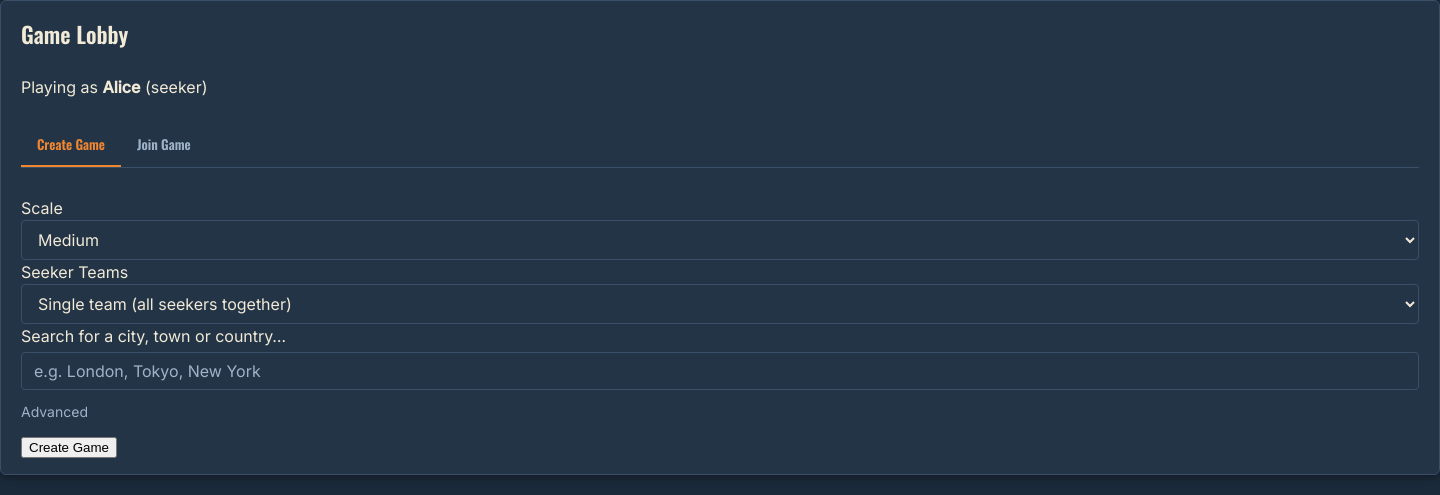
Test: GameForm › shows error when joining with empty game ID
The width and height of the screenshot is (1440, 495).
Click the tab "Join Game" at point(164, 145), box 121,123 -> 207,167
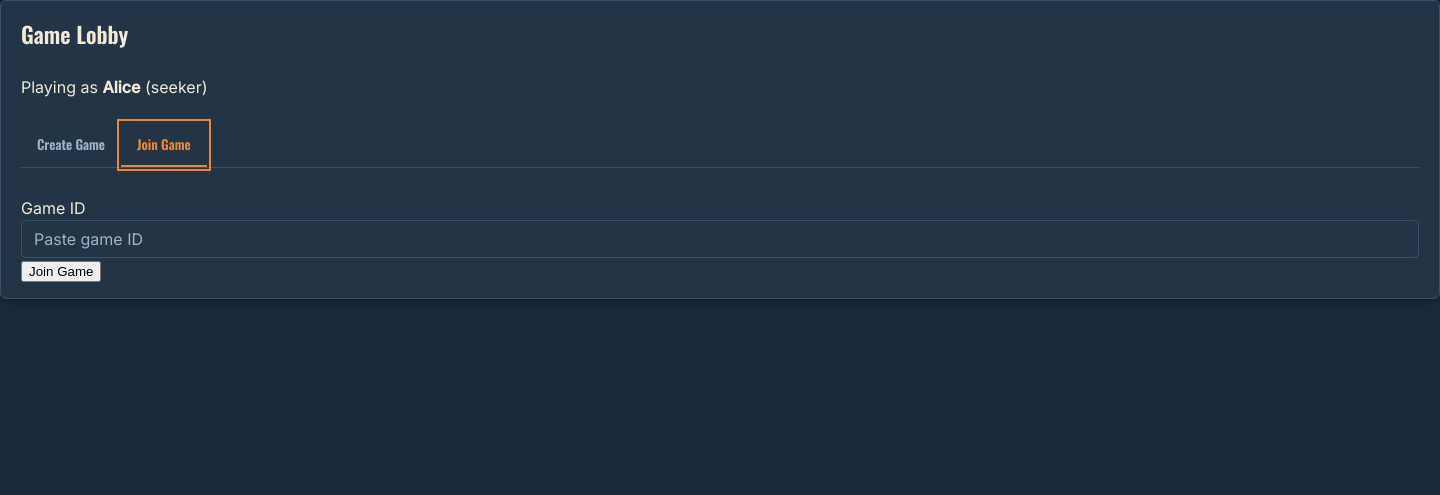
Click the button "Join Game" at point(61, 271), box 21,261 -> 102,282
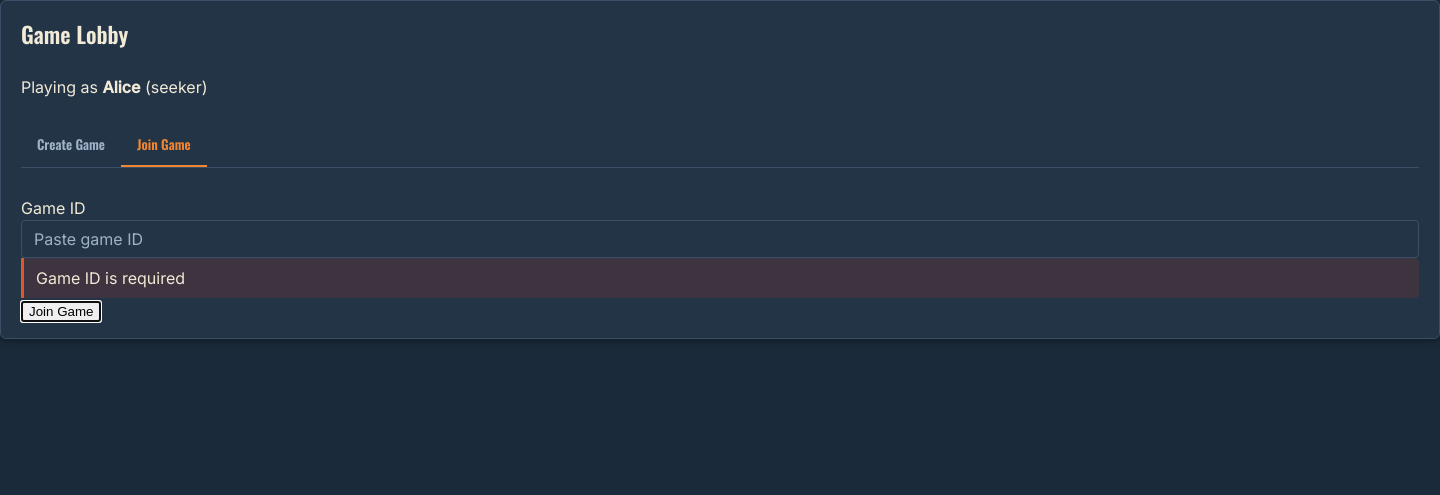
Expected: the message reads "Game ID is required", 36,268 -> 185,288
